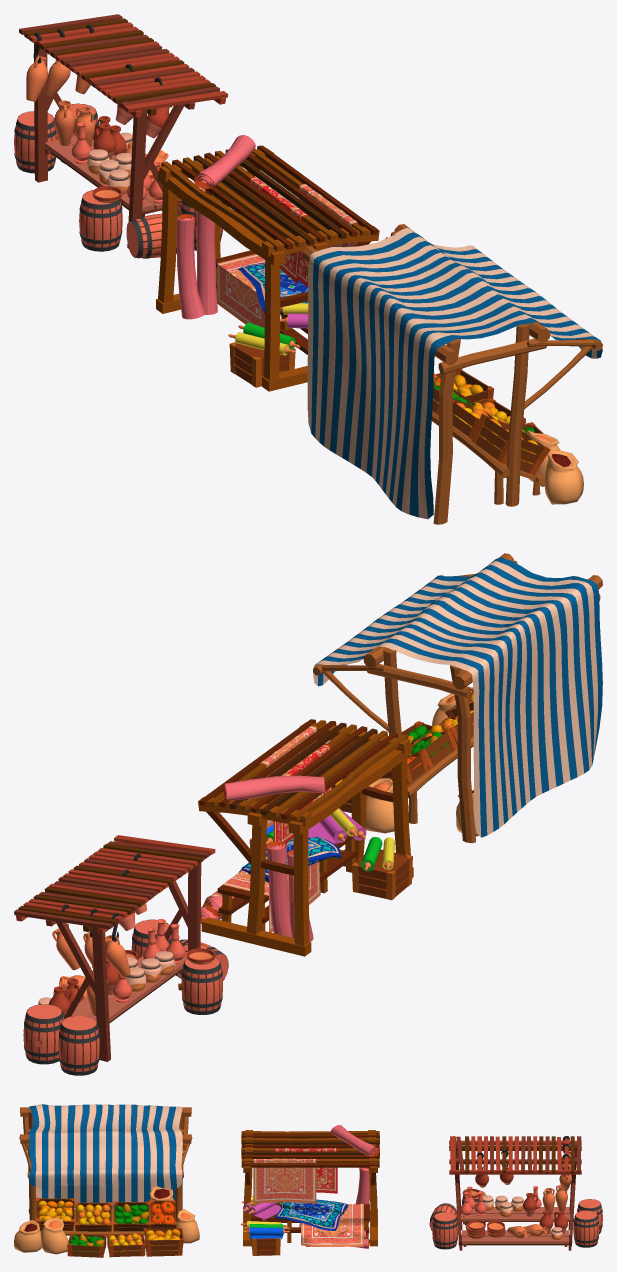
Rendered from market.glb.
3 views of the same model, one above another, from view 1: azimuth 30°, elevation 25°; view 2: azimuth 150°, elevation 25°; view 3: azimuth 270°, elevation 25° (orthographic). The views are drawn at different scales.
Parts seen in each view (by area): view 1: Cube.057, Cube.067, Cylinder.054; view 2: Cube.057, Cube.067, Cylinder.054; view 3: Cube.057, Cube.067, Cylinder.054.
Boxes of the visible parts, box(x1,y1,x2,y2) form: Cube.057: box(302, 224, 602, 524); Cube.067: box(156, 135, 379, 391); Cylinder.054: box(14, 14, 228, 258); Cube.057: box(313, 553, 602, 843); Cube.067: box(198, 719, 413, 956); Cylinder.054: box(14, 835, 228, 1075); Cube.057: box(14, 1104, 199, 1257); Cube.067: box(240, 1125, 379, 1255); Cylinder.054: box(429, 1136, 602, 1250).
Size of what is drawn, in the model's own units: 1.82 by 1.79 by 8.63.
Materials: 1 (1 with a texture image).
